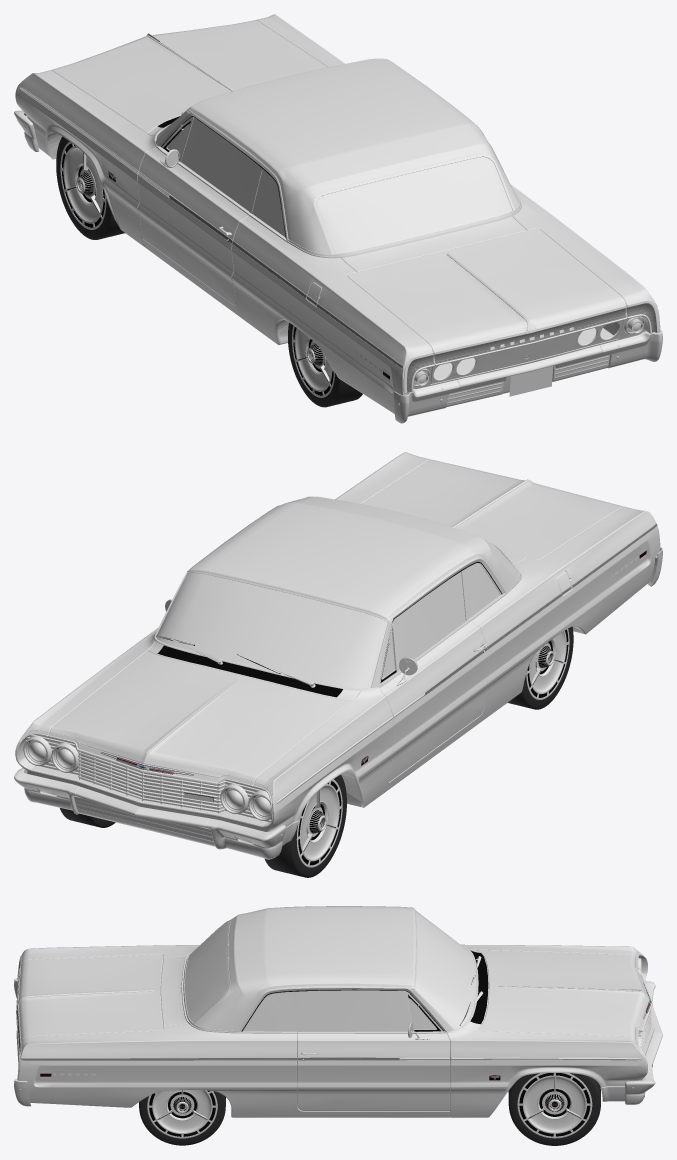
Rendered from vpd_chv_impala_64.glb.
3 views of the same model, one above another, from view 1: azimuth 30°, elevation 25°; view 2: azimuth 150°, elevation 25°; view 3: azimuth 270°, elevation 25° (orthographic). The views are drawn at different scales.
Visible parts, largest first — view 1: vpd_chv_impala_64/resources/vehicle/vpd_chv_impala_64/fender (×2), vpd_chv_impala_64/resources/vehicle/vpd_chv_impala_64/trunk_ (×2), vpd_chv_impala_64/resources/vehicle/vpd_chv_impala_64/hood0_, vpd_chv_impala_64/resources/vehicle/vpd_chv_impala_64/door_l, vpd_chv_impala_64/resources/vehicle/vpd_chv_impala_64/bumper, vpd_chv_impala_64/resources/vehicle/vpd_chv_impala_64/body_l (×2), shared/resources/rims/whld_stk_chv_impala_64@axl_0/model0, shared/resources/rims/whld_stk_chv_impala_64@axl_2/model0, shared/resources/tires/models/tir_car@axl_0/model0, shared/resources/tires/models/tir_car@axl_2/model0; view 2: vpd_chv_impala_64/resources/vehicle/vpd_chv_impala_64/fender (×2), vpd_chv_impala_64/resources/vehicle/vpd_chv_impala_64/hood0_, vpd_chv_impala_64/resources/vehicle/vpd_chv_impala_64/trunk_, vpd_chv_impala_64/resources/vehicle/vpd_chv_impala_64/door_l, vpd_chv_impala_64/resources/vehicle/vpd_chv_impala_64/bumper, vpd_chv_impala_64/resources/vehicle/vpd_chv_impala_64/headli (×3), vpd_chv_impala_64/resources/vehicle/vpd_chv_impala_64/body_l, shared/resources/rims/whld_stk_chv_impala_64@axl_0/model0, shared/resources/rims/whld_stk_chv_impala_64@axl_2/model0, shared/resources/tires/models/tir_car@axl_0/model0, shared/resources/tires/models/tir_car@axl_2/model0; view 3: vpd_chv_impala_64/resources/vehicle/vpd_chv_impala_64/fender (×3), vpd_chv_impala_64/resources/vehicle/vpd_chv_impala_64/door_r (×2), vpd_chv_impala_64/resources/vehicle/vpd_chv_impala_64/hood0_, vpd_chv_impala_64/resources/vehicle/vpd_chv_impala_64/trunk_, vpd_chv_impala_64/resources/vehicle/vpd_chv_impala_64/body_l, shared/resources/rims/whld_stk_chv_impala_64@axl_1/model0, shared/resources/rims/whld_stk_chv_impala_64@axl_3/model0, shared/resources/tires/models/tir_car@axl_1/model0, vpd_chv_impala_64/resources/vehicle/vpd_chv_impala_64/bumper (×2), shared/resources/tires/models/tir_car@axl_3/model0.
Boxes of the visible parts, x1,y1,x2,y2 form: vpd_chv_impala_64/resources/vehicle/vpd_chv_impala_64/fender (×2): (15,14,660,413); vpd_chv_impala_64/resources/vehicle/vpd_chv_impala_64/trunk_ (×2): (347,228,627,384); vpd_chv_impala_64/resources/vehicle/vpd_chv_impala_64/hood0_: (51,20,327,133); vpd_chv_impala_64/resources/vehicle/vpd_chv_impala_64/door_l: (137,116,251,305); vpd_chv_impala_64/resources/vehicle/vpd_chv_impala_64/bumper: (394,329,662,423); vpd_chv_impala_64/resources/vehicle/vpd_chv_impala_64/body_l (×2): (181,117,618,379); shared/resources/rims/whld_stk_chv_impala_64@axl_0/model0: (60,141,106,229); shared/resources/rims/whld_stk_chv_impala_64@axl_2/model0: (292,326,334,397); shared/resources/tires/models/tir_car@axl_0/model0: (56,136,124,239); shared/resources/tires/models/tir_car@axl_2/model0: (288,322,362,407); vpd_chv_impala_64/resources/vehicle/vpd_chv_impala_64/fender (×2): (15,452,660,845); vpd_chv_impala_64/resources/vehicle/vpd_chv_impala_64/hood0_: (48,651,351,786); vpd_chv_impala_64/resources/vehicle/vpd_chv_impala_64/trunk_: (361,459,623,559); vpd_chv_impala_64/resources/vehicle/vpd_chv_impala_64/door_l: (379,620,488,781); vpd_chv_impala_64/resources/vehicle/vpd_chv_impala_64/bumper: (14,768,286,859); vpd_chv_impala_64/resources/vehicle/vpd_chv_impala_64/headli (×3): (23,734,271,821); vpd_chv_impala_64/resources/vehicle/vpd_chv_impala_64/body_l: (394,572,465,670); shared/resources/rims/whld_stk_chv_impala_64@axl_0/model0: (296,779,342,867); shared/resources/rims/whld_stk_chv_impala_64@axl_2/model0: (526,629,569,699); shared/resources/tires/models/tir_car@axl_0/model0: (265,774,346,877); shared/resources/tires/models/tir_car@axl_2/model0: (507,626,573,709); vpd_chv_impala_64/resources/vehicle/vpd_chv_impala_64/fender (×3): (17,906,654,1117); vpd_chv_impala_64/resources/vehicle/vpd_chv_impala_64/door_r (×2): (297,991,450,1110); vpd_chv_impala_64/resources/vehicle/vpd_chv_impala_64/hood0_: (476,949,652,1040); vpd_chv_impala_64/resources/vehicle/vpd_chv_impala_64/trunk_: (16,954,163,1050); vpd_chv_impala_64/resources/vehicle/vpd_chv_impala_64/body_l: (295,990,410,1031); shared/resources/rims/whld_stk_chv_impala_64@axl_1/model0: (517,1073,592,1138); shared/resources/rims/whld_stk_chv_impala_64@axl_3/model0: (147,1090,217,1138); shared/resources/tires/models/tir_car@axl_1/model0: (508,1073,600,1145); vpd_chv_impala_64/resources/vehicle/vpd_chv_impala_64/bumper (×2): (14,978,662,1106); shared/resources/tires/models/tir_car@axl_3/model0: (139,1091,225,1145).
Size of the model in its own units: 1.87 by 1.33 by 4.88.
Materials: 138 (66 with a texture image).
